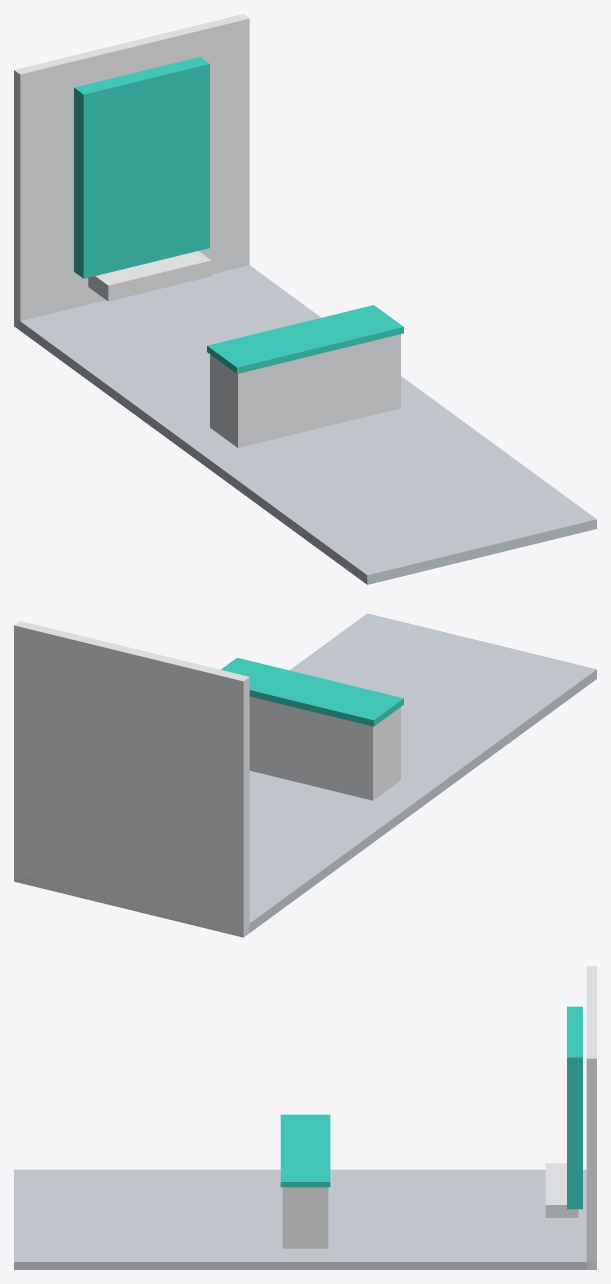
3 views of the same model, one above another, from view 1: azimuth 30°, elevation 25°; view 2: azimuth 150°, elevation 25°; view 3: azimuth 270°, elevation 25° (orthographic). The views are drawn at different scales.
Visible parts, largest first — view 1: Exhibition Booth Concept; view 2: Exhibition Booth Concept; view 3: Exhibition Booth Concept.
Boxes of the visible parts, x1,y1,x2,y2 form: Exhibition Booth Concept: (14, 14, 596, 584); Exhibition Booth Concept: (14, 613, 596, 937); Exhibition Booth Concept: (14, 966, 596, 1269).
Bounding box in the file's own units: 3 × 3.2 × 8.
